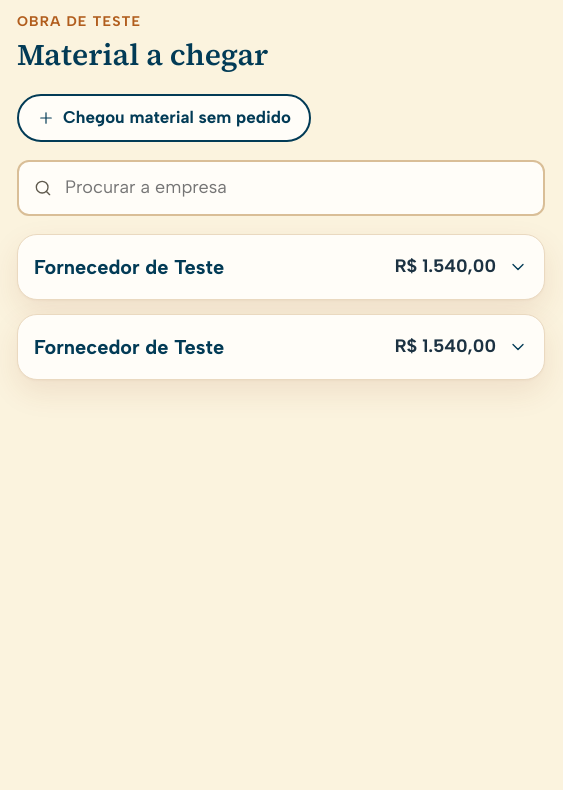
Scenario: Material a chegar: a lista › o pedido sem data: a linha não fala de dia; aberto, diz "Sem dia combinado", e nunca "Combinado para sem dia"
This screenshot has width=563, height=790.
Expected: the text "Sem dia combinado" is not shown
Click the 1st button "Fornecedor de Teste R$ 1.540,00" at (129, 267), box [18,235,544,299]
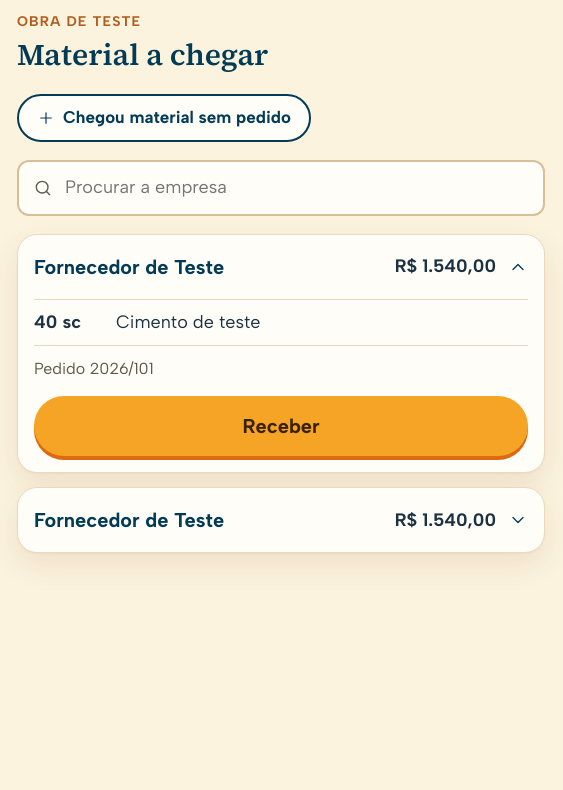
Click the button "Receber" at (281, 426), box [34,396,528,456]
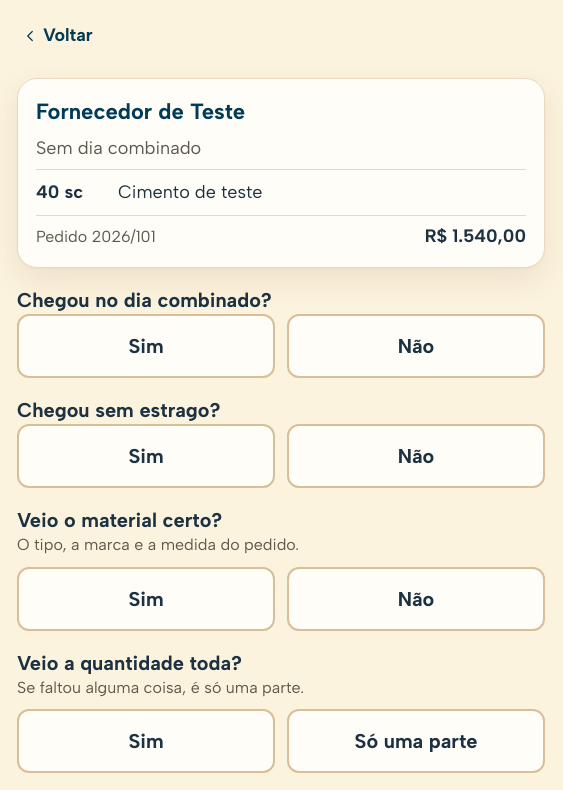
Now the element "Veio a quantidade toda?" is shown, box [17,649,545,773]
Now the text "Sem dia combinado" is shown, box [36,137,201,159]
